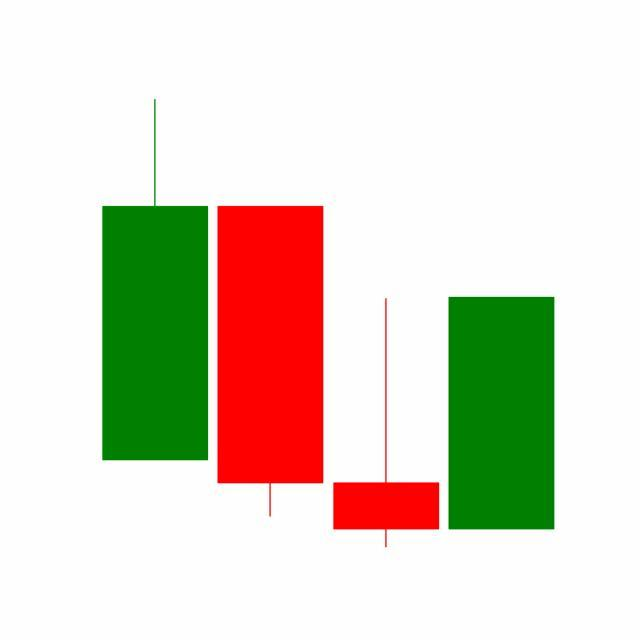Marubozu: (444, 295, 560, 533)
